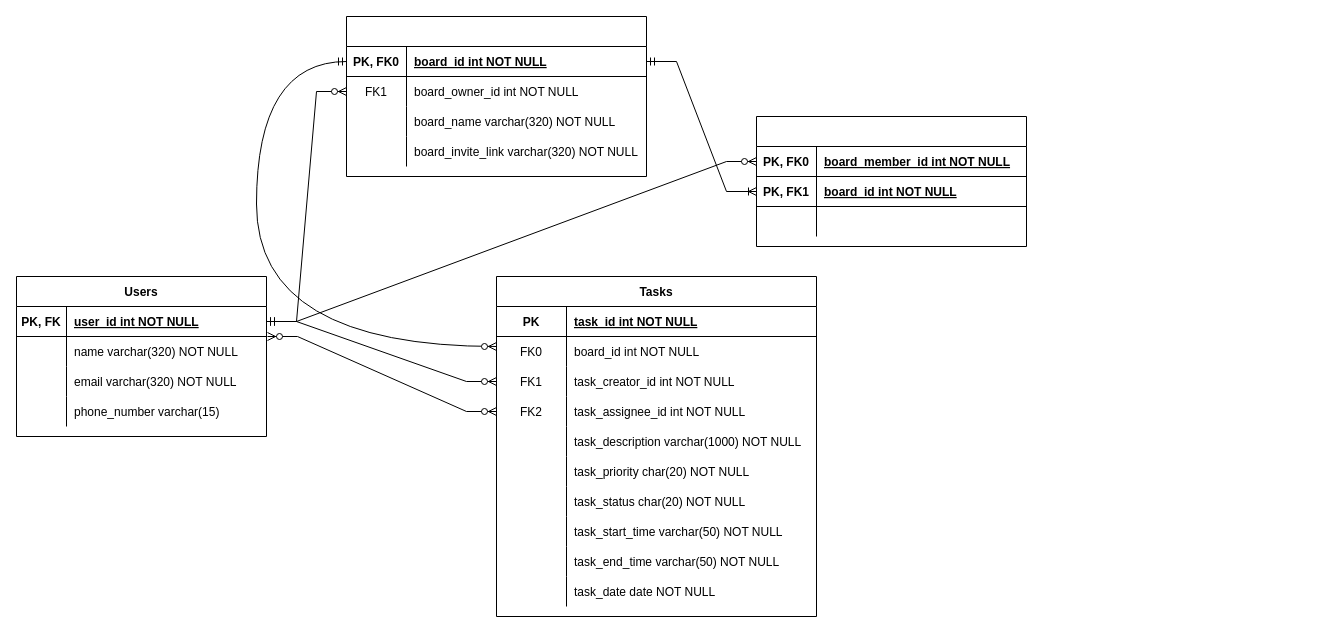
Some shapes in this 1343 by 633 pixel diagram are drawn without their labels. The box of each missing label's shape, as (x1, y1, x2, y2) in pixels:
Board_members: (756, 116, 1026, 246)
Boards: (346, 16, 646, 176)
